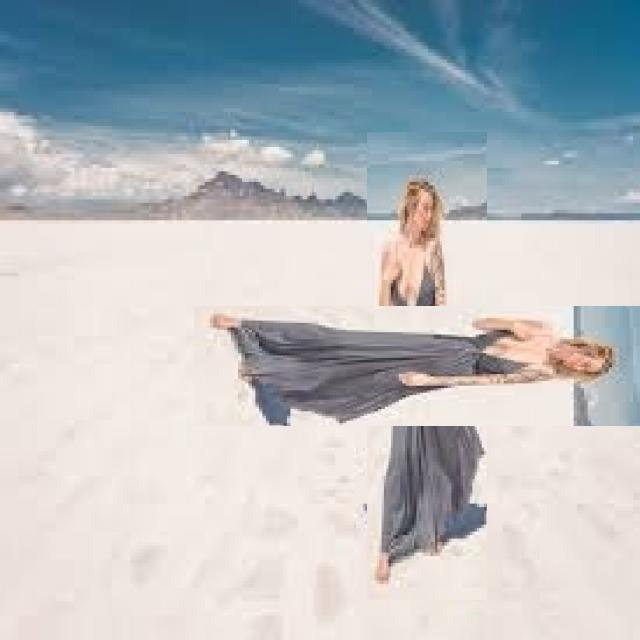NotFall: (266, 255, 640, 446)
